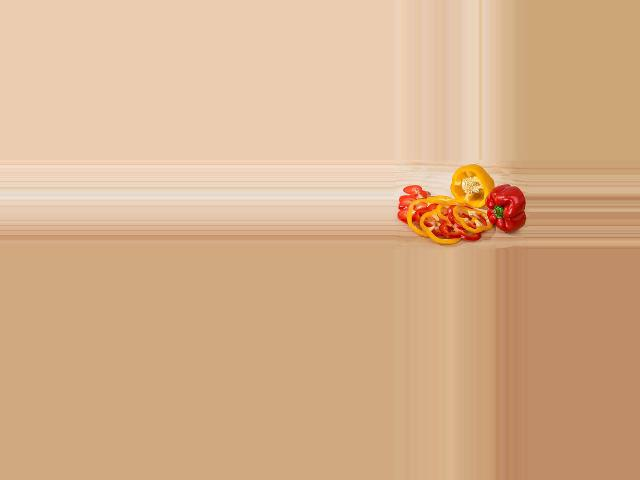bell_pepper: (448, 162, 492, 207)
